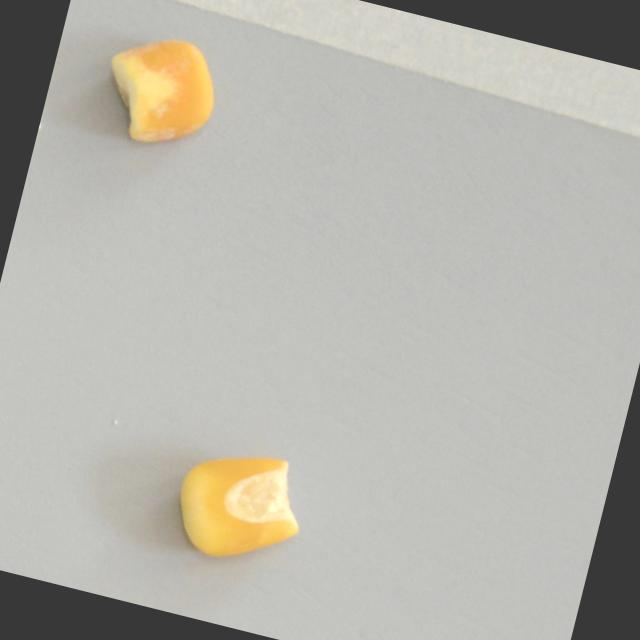dañado: (162, 429, 317, 578), (90, 21, 229, 161)
